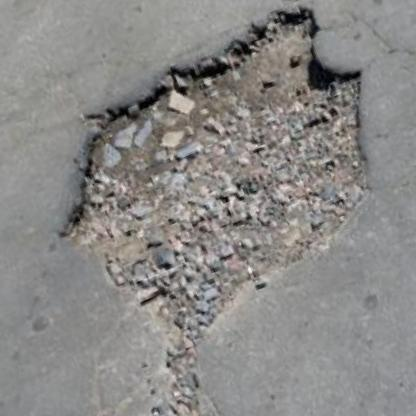pothole: (7, 0, 416, 386)
